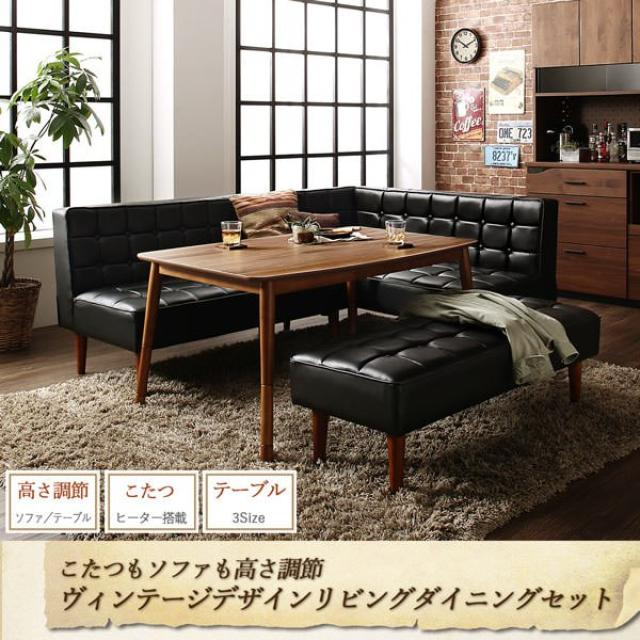vintage chair: (290, 297, 606, 502)
vintage desk: (124, 222, 477, 463)
vintage sofa: (54, 180, 555, 306)
